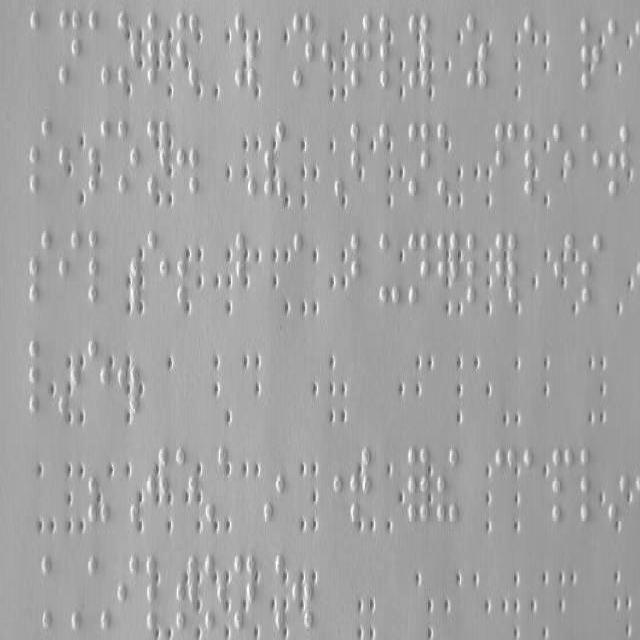braiile: (86, 228, 114, 306), (348, 231, 374, 311), (40, 551, 66, 631), (146, 228, 170, 314), (28, 333, 52, 418), (86, 337, 110, 419), (290, 11, 314, 91), (28, 118, 52, 198), (578, 120, 602, 200), (606, 122, 630, 202), (493, 121, 517, 199), (580, 230, 604, 308), (492, 446, 516, 524), (550, 446, 574, 524), (116, 554, 140, 632), (115, 118, 138, 198), (28, 231, 52, 307), (406, 228, 430, 304), (58, 10, 82, 84), (350, 11, 372, 91), (406, 122, 429, 198), (58, 228, 80, 306), (466, 230, 488, 308), (579, 446, 601, 524), (378, 231, 400, 307), (28, 9, 50, 84), (522, 446, 542, 528)
